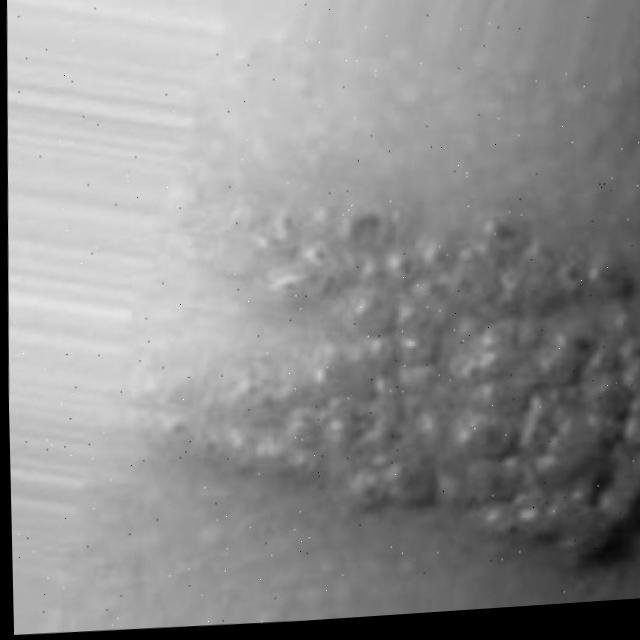Shingles: (217, 173, 640, 591)
